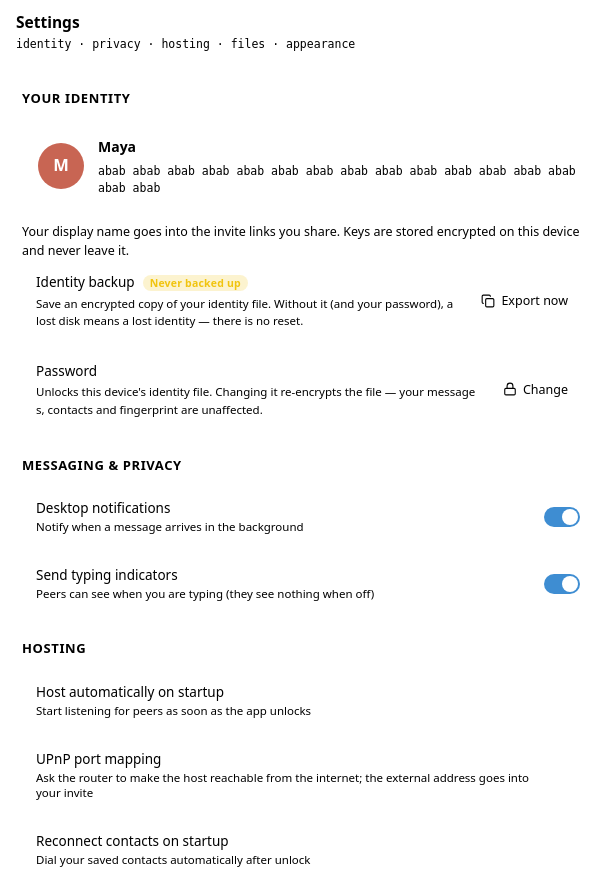
Test case: Settings › restores the old name when the rename is refused
The image size is (601, 884).
Replace the text in the field named "Display name" with "Someone Else" at (208, 146), box [91,134,324,159]
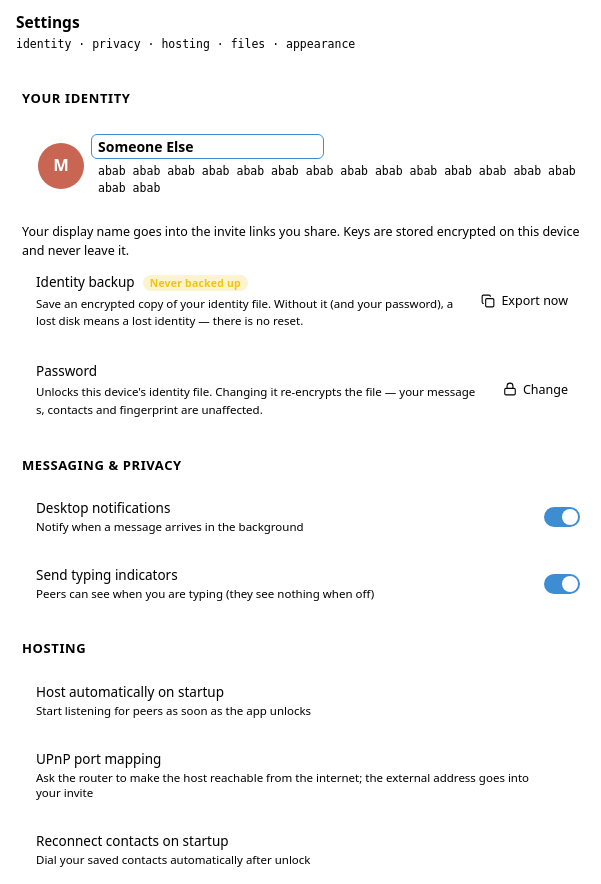
Press Tab
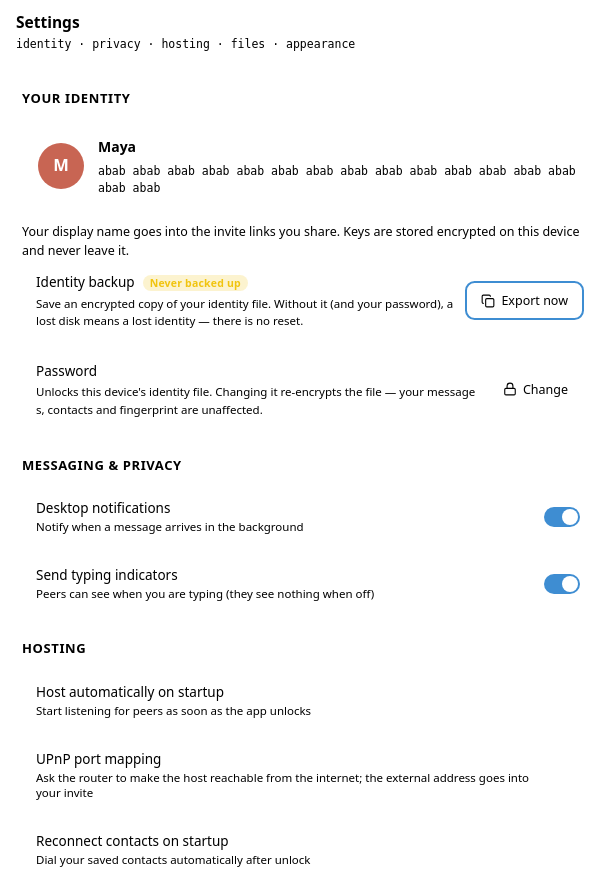
Expected: the field named "Display name" holds "Maya", [91,134,324,159]
